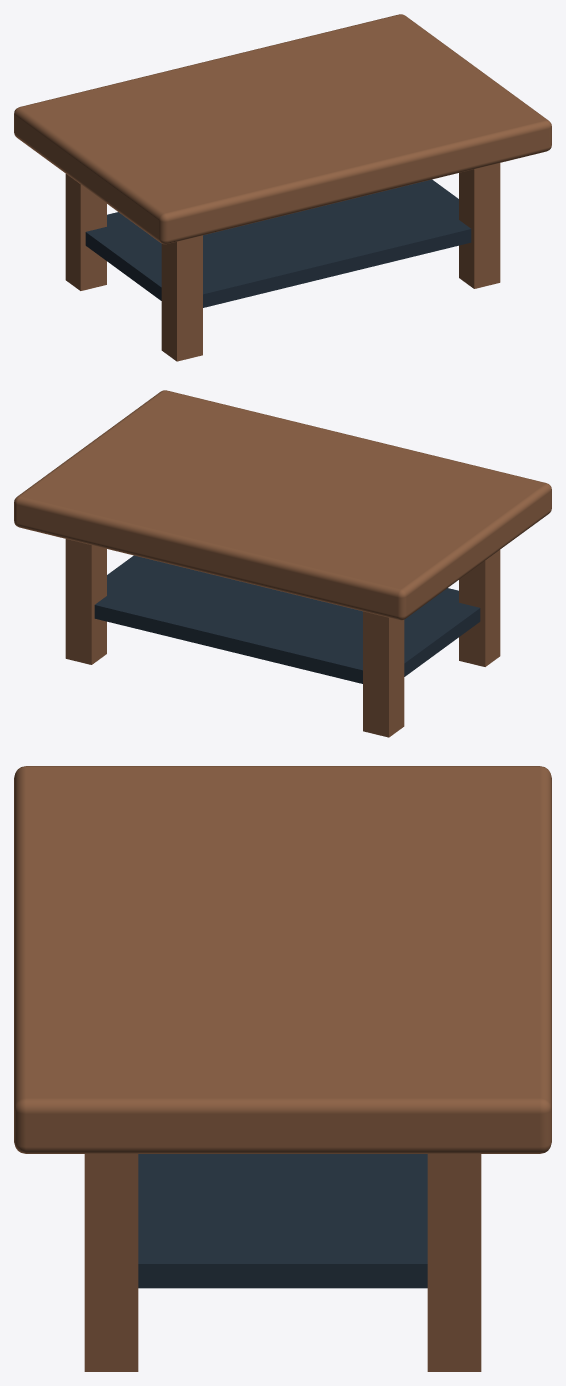
The model's file is coffee-table.glb.
The picture shows the model from 3 angles, top to bottom: view 1: azimuth 30°, elevation 25°; view 2: azimuth 150°, elevation 25°; view 3: azimuth 270°, elevation 25°; orthographic projection. The views are drawn at different scales.
Size of the model in its own units: 1.2 by 0.49 by 0.8.
